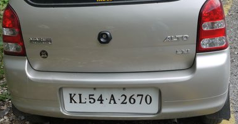KL54A2670: (63, 87, 159, 113)
